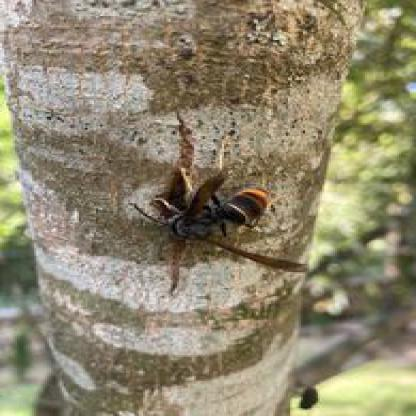Asian Hornet: (140, 168, 310, 293)
